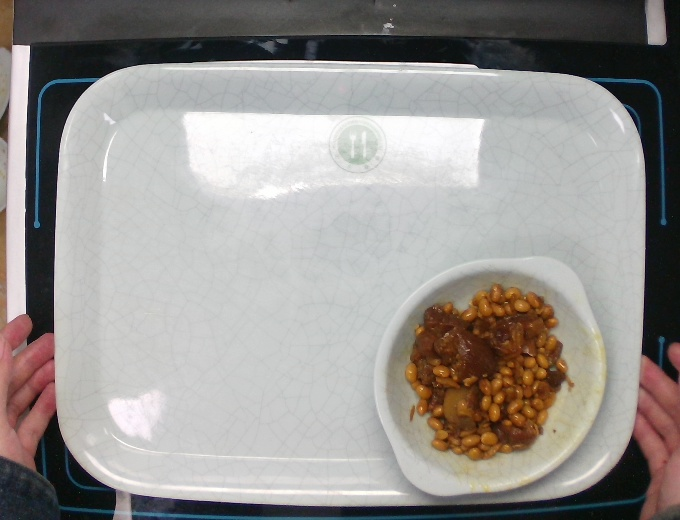JYsf-Shuang_Er_Wan: (374, 251, 613, 500)
